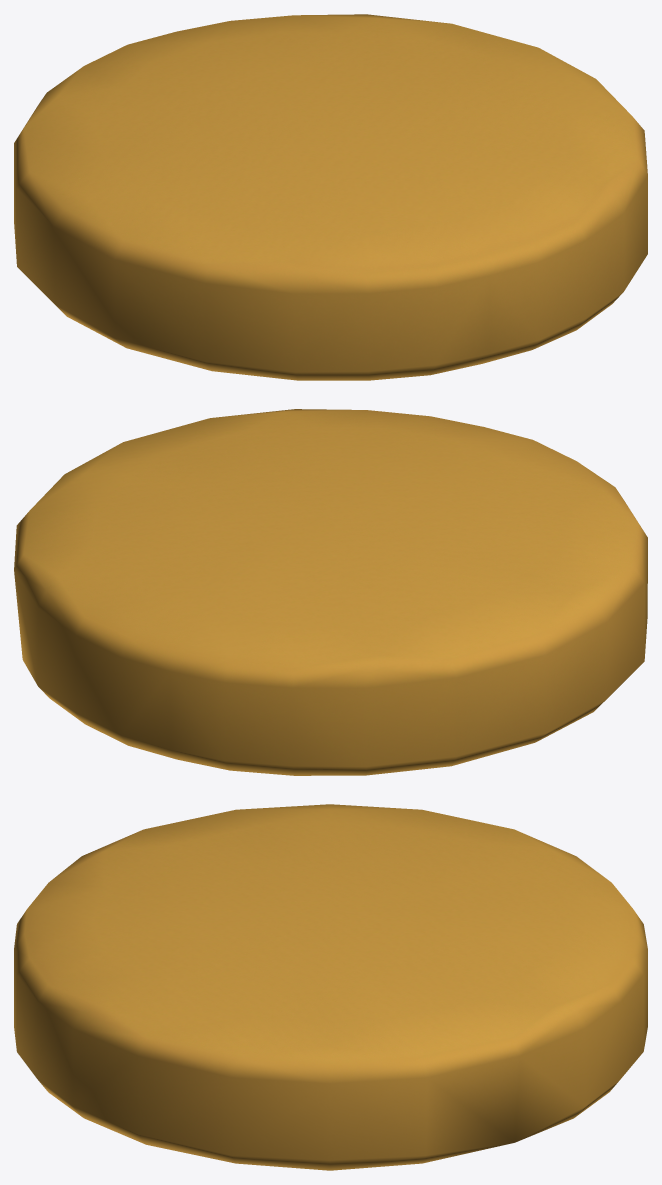
Rendered from floor_cushion.glb.
3 views of the same model, one above another, from view 1: azimuth 30°, elevation 25°; view 2: azimuth 150°, elevation 25°; view 3: azimuth 270°, elevation 25° (orthographic).
Size of the model in its own units: 0.9561 by 0.231 by 0.9517.
1 material, 1 textured.
